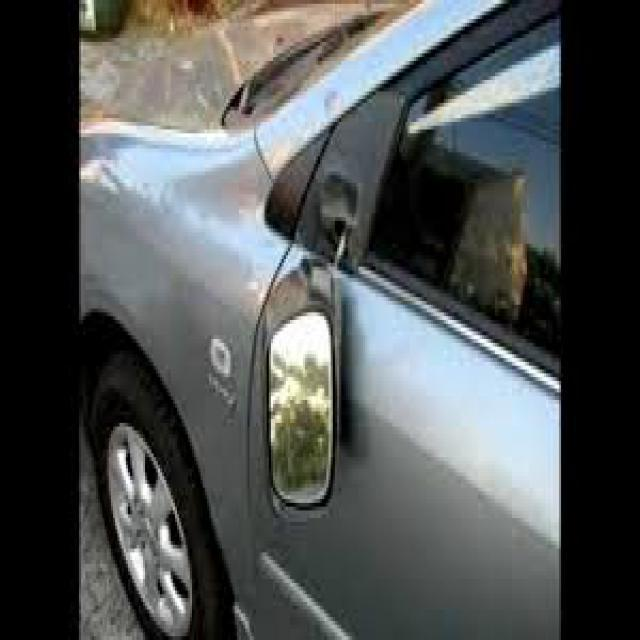Sidemirror-Damage: (262, 195, 350, 514)
